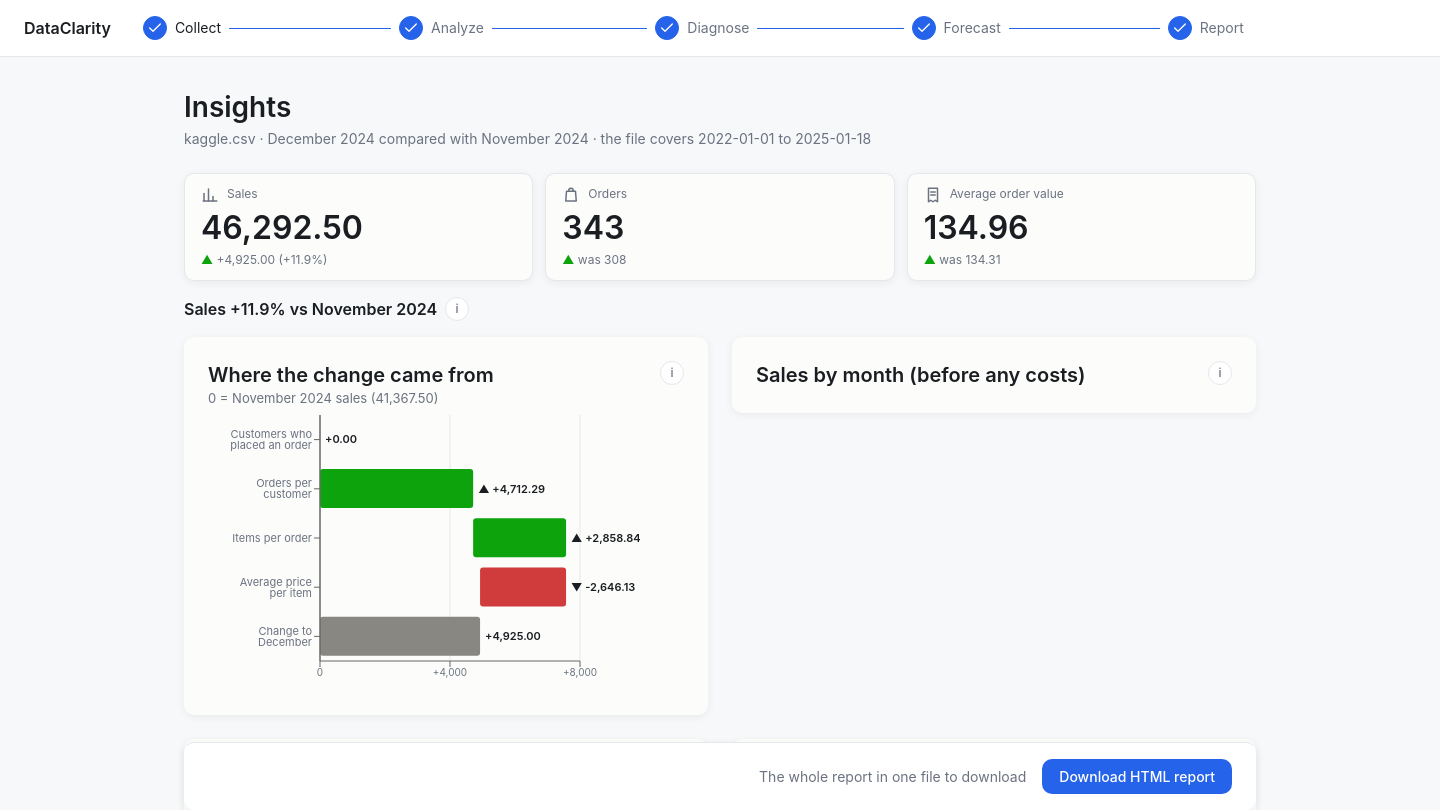
Test: Insights draws the dashboard block › the trend's sentences stand even when no month can be drawn
Step 1. Click the button with class "marker" next to "Sales by month (before any costs)" → click(1220, 373), box [1208, 361, 1232, 385]
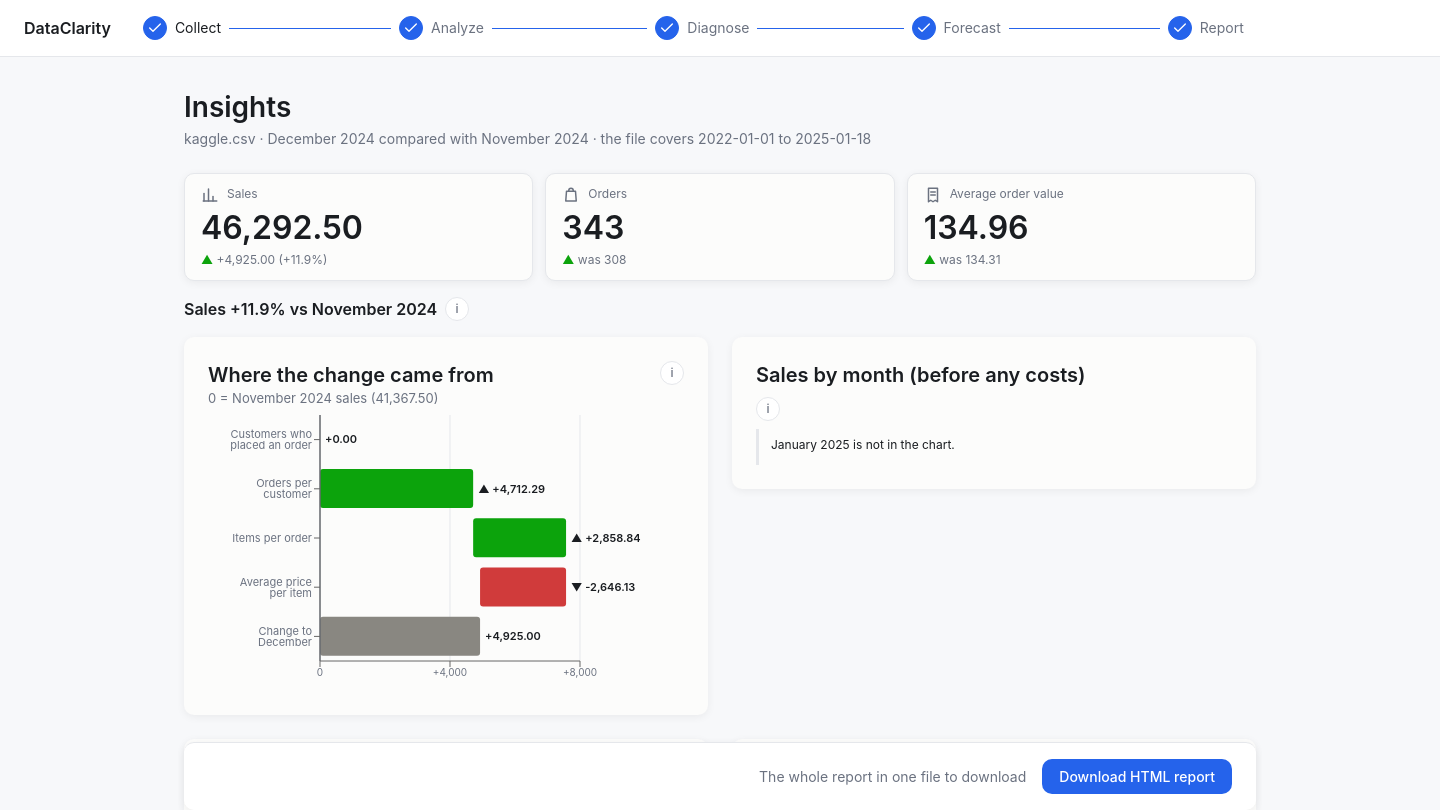
Result: the text "January 2025 is not in the chart." is shown at [771, 437, 955, 453]
